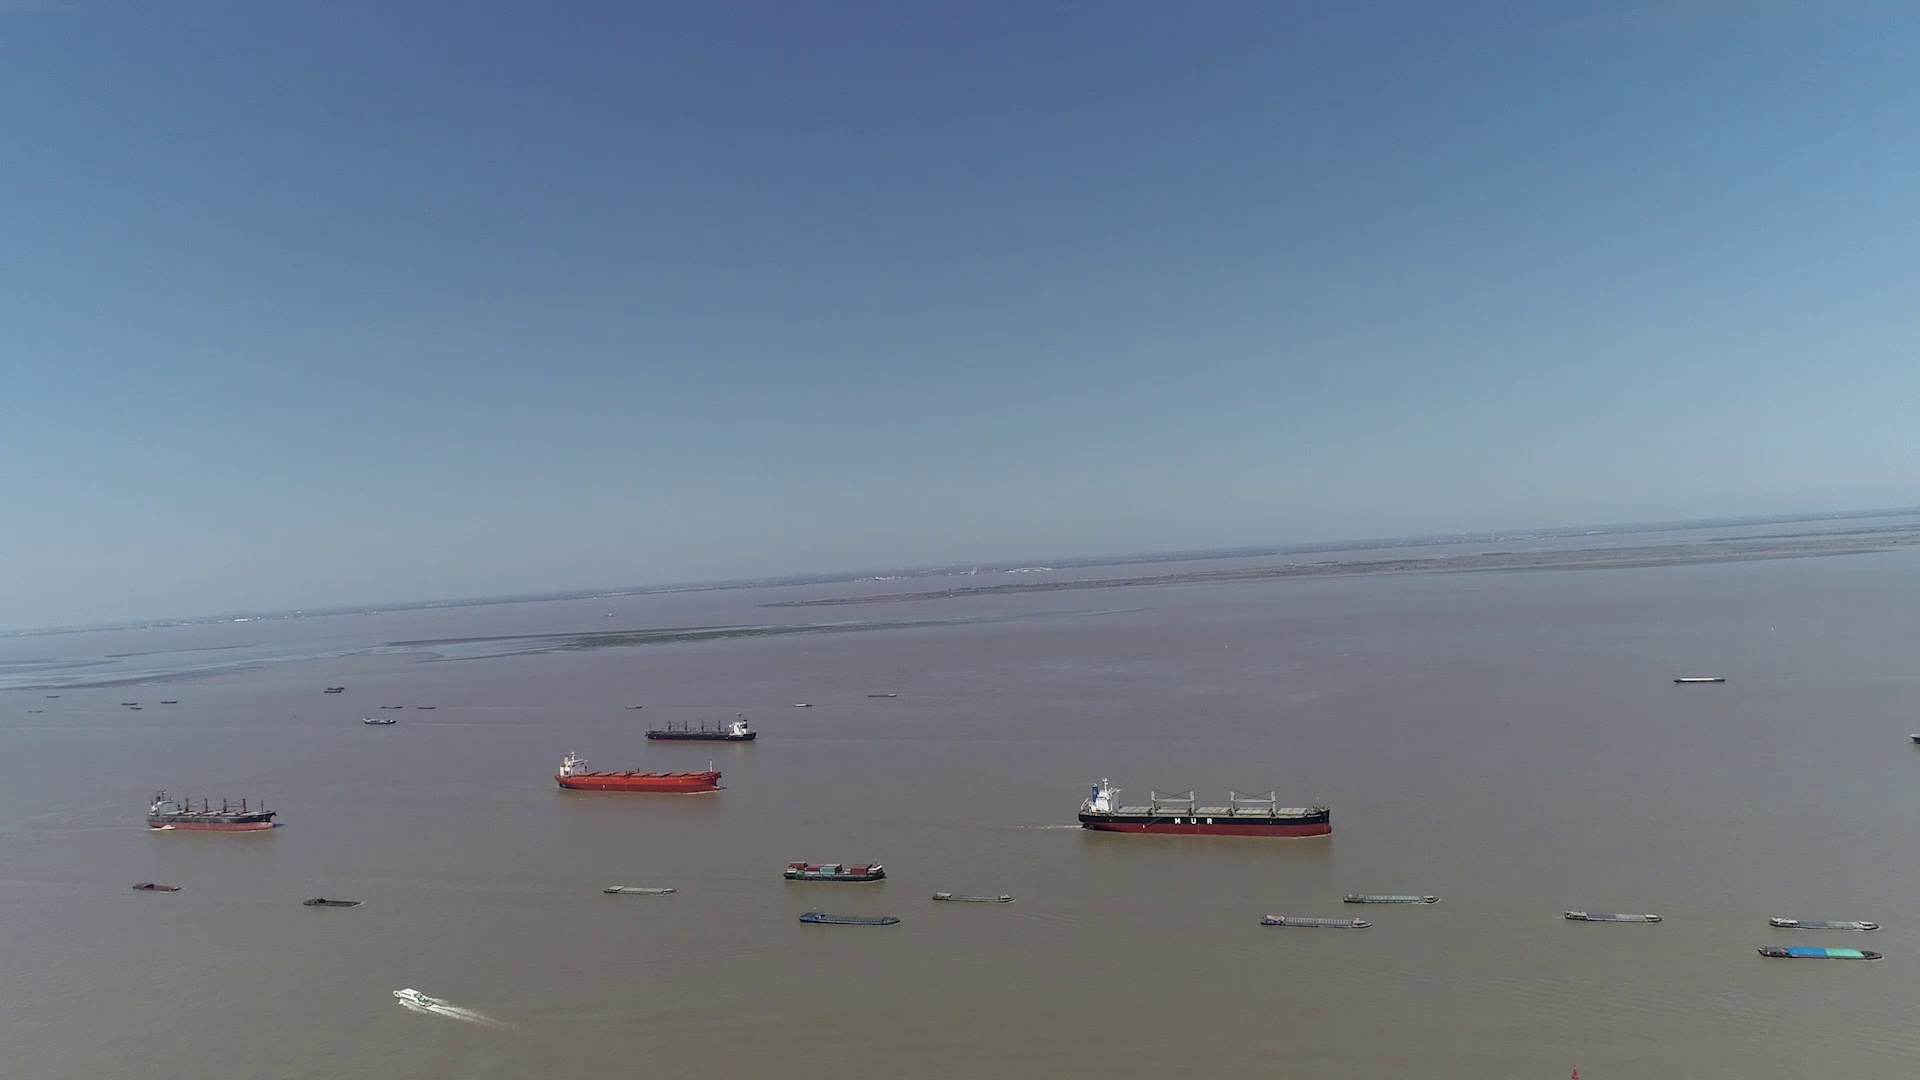ship: (1081, 774, 1331, 837), (556, 750, 720, 795), (146, 791, 277, 832), (646, 716, 757, 741), (781, 858, 886, 881), (1768, 914, 1879, 931), (1756, 944, 1880, 959), (1259, 914, 1371, 930), (799, 909, 899, 926), (1564, 907, 1663, 923), (396, 988, 448, 1017), (1341, 890, 1437, 905), (931, 889, 1011, 903), (603, 882, 675, 895), (301, 895, 361, 907), (132, 881, 179, 891), (1675, 676, 1725, 683), (363, 717, 393, 725)
